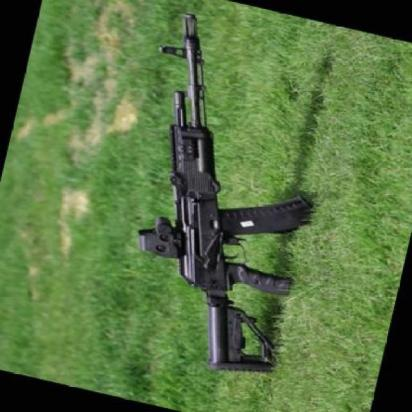Gun: (106, 13, 359, 392)
